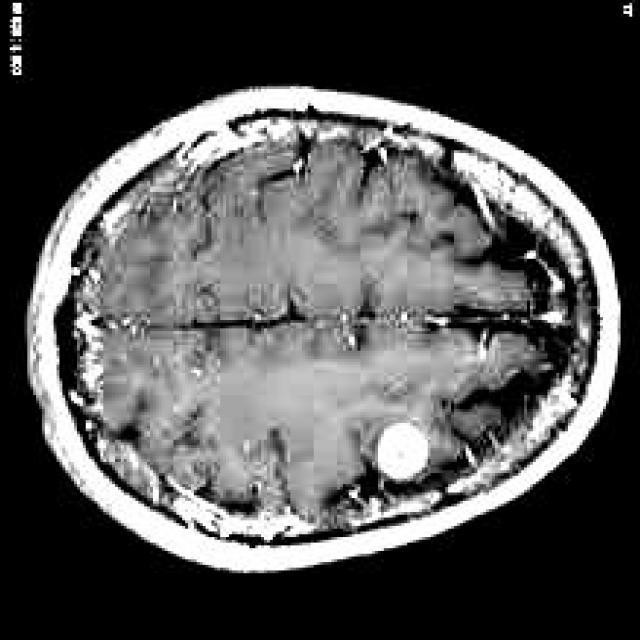tumor: (374, 420, 427, 484)
